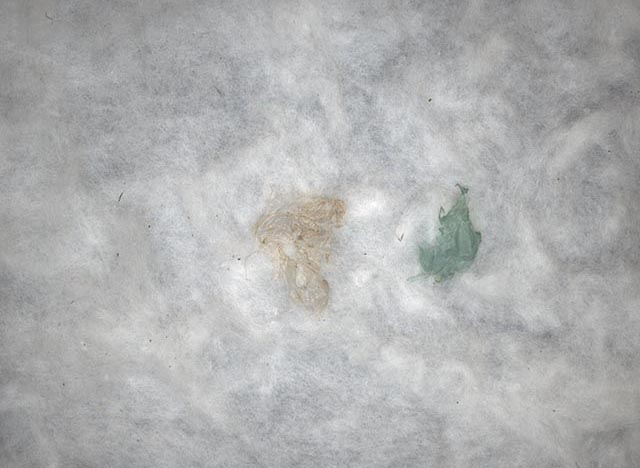plastic film: (252, 196, 347, 312), (416, 183, 482, 285)
